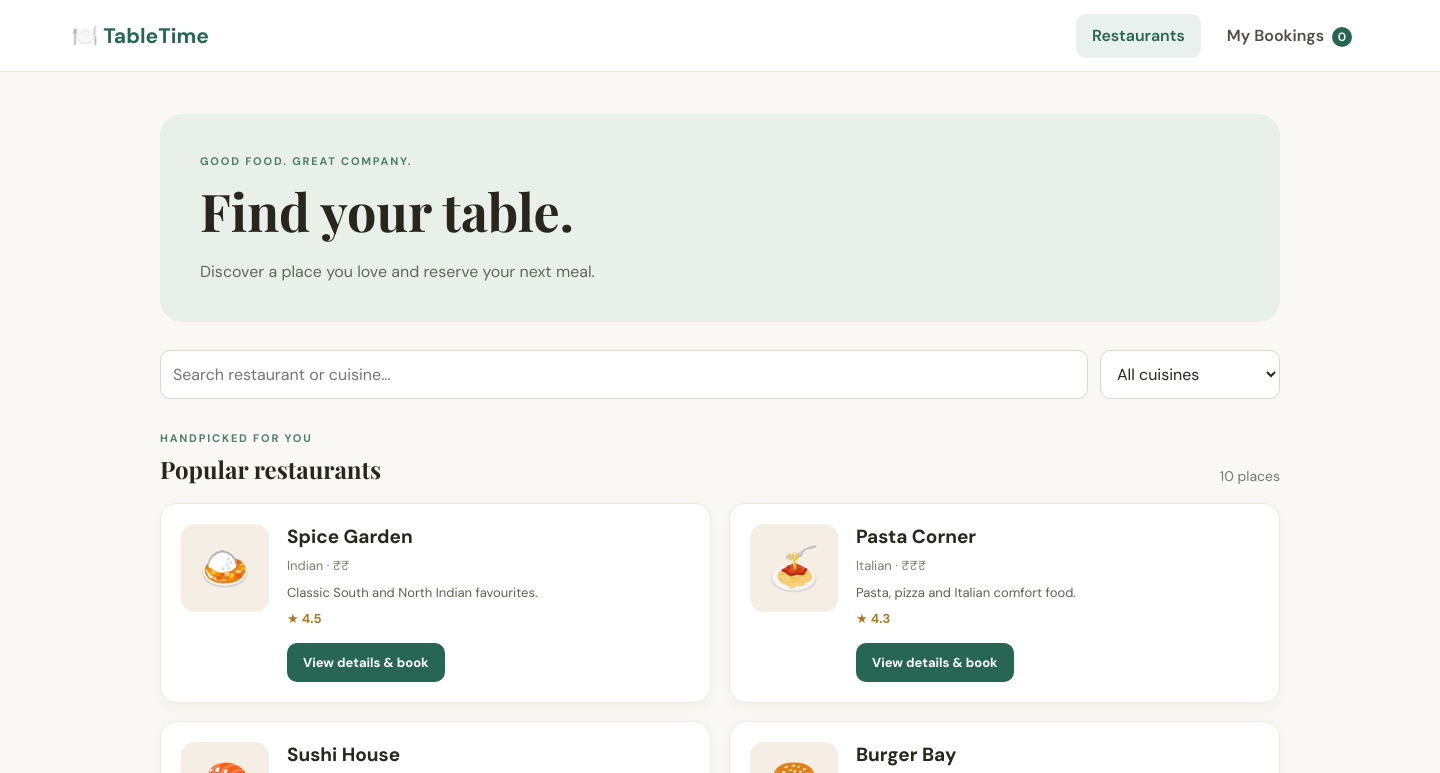
Restaurant Reservation Components › shows validation when booking form is empty
Click the button "View details & book" below "Spice Garden": (366, 662) left=287, top=642, right=445, bottom=682
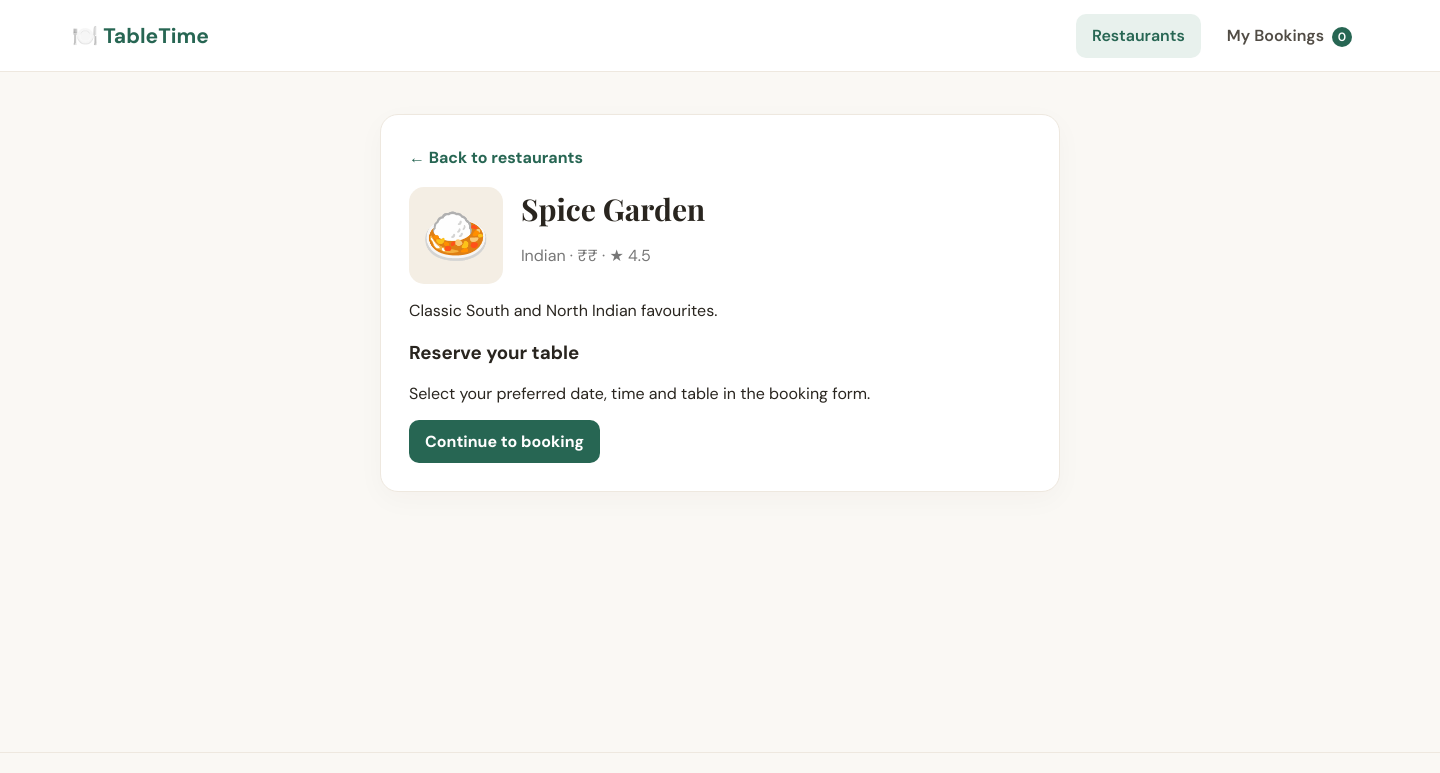
Click the button "Continue to booking": (505, 442) left=409, top=420, right=600, bottom=463
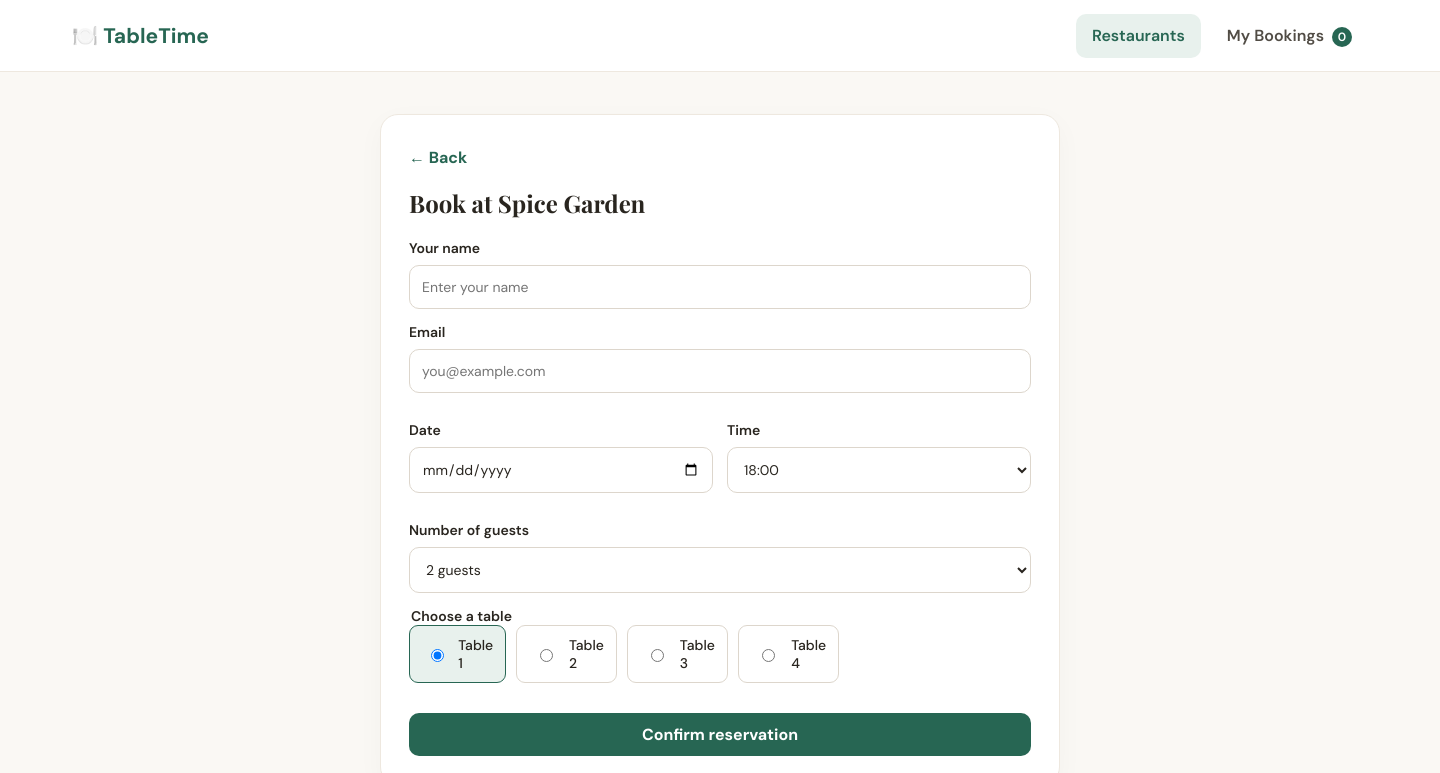
Click the button "Confirm reservation": (720, 734) left=409, top=713, right=1031, bottom=756
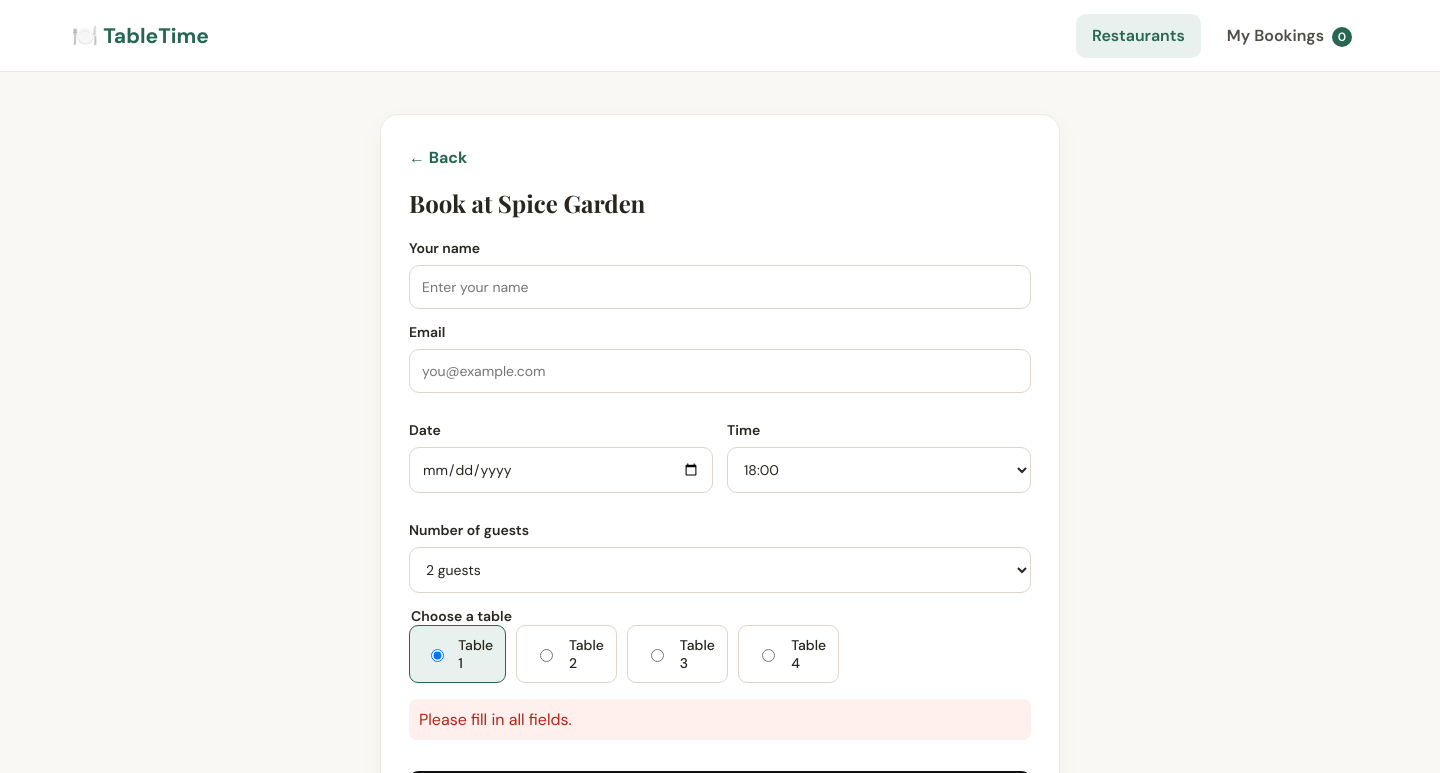
Result: the message reads "Please fill in all fields." at left=419, top=709, right=572, bottom=730
